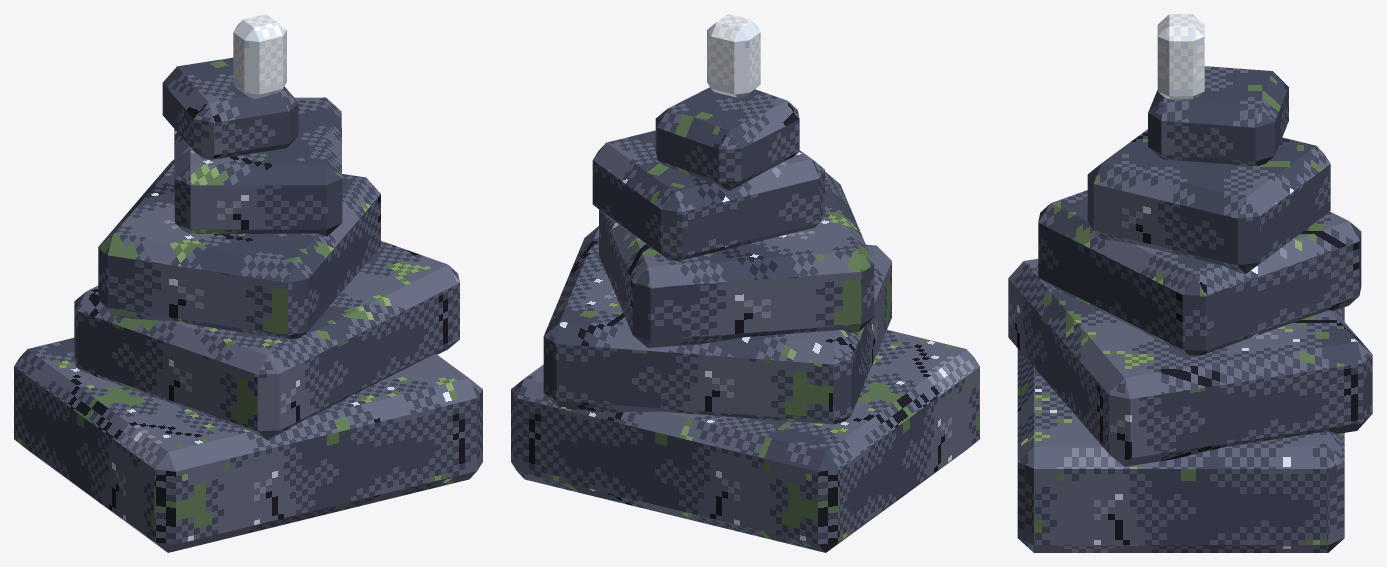
File: plateado_cairn.glb
3 views of the same model, side by side, from view 1: azimuth 30°, elevation 25°; view 2: azimuth 150°, elevation 25°; view 3: azimuth 270°, elevation 25° (orthographic). The views are drawn at different scales.
Parts seen in each view (by area): view 1: Cairn; view 2: Cairn; view 3: Cairn.
Boxes of the visible parts, x1,y1,x2,y2 form: Cairn: (14,14,482,552); Cairn: (511,14,979,552); Cairn: (1008,14,1372,552).
Size of the model in its own units: 1.81 by 2.18 by 1.56.
Materials: 2 (2 with a texture image).
